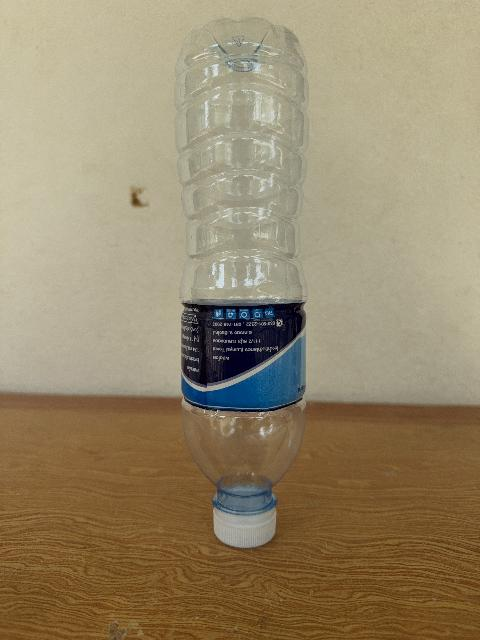bottle: (176, 18, 308, 547)
